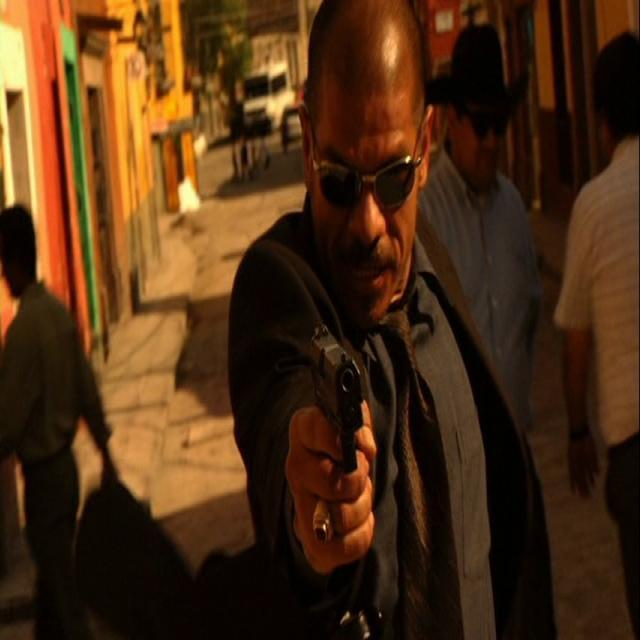gun-knife-thesis - v11 Yolov5 augmented: (290, 300, 373, 536)
